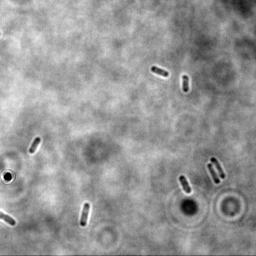Rod: (209, 157, 227, 180), (205, 163, 222, 185), (78, 202, 92, 228), (177, 175, 193, 195), (150, 65, 170, 79), (27, 137, 42, 155), (180, 73, 191, 94)
